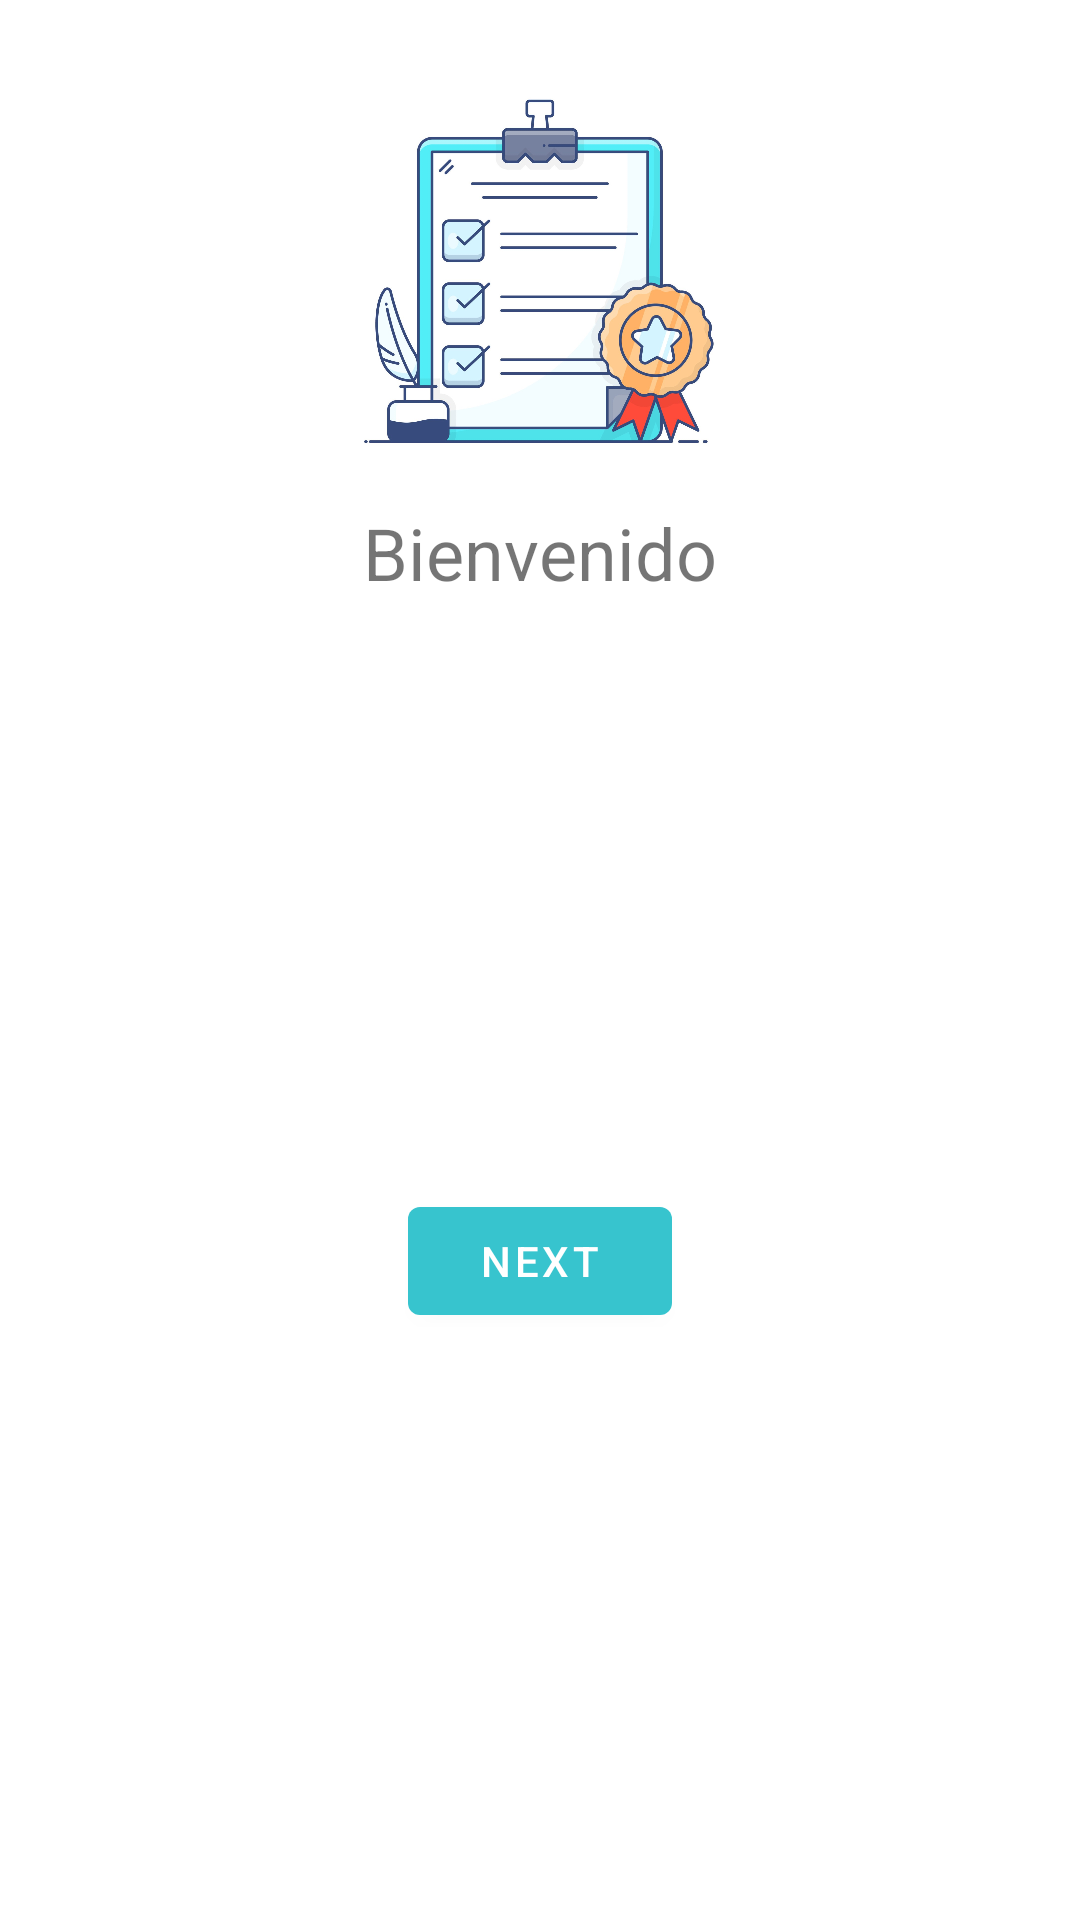

Point at icon controls on the screen. Image size 1080w x 1920h, points as [x,y].
taks: [539,271]
